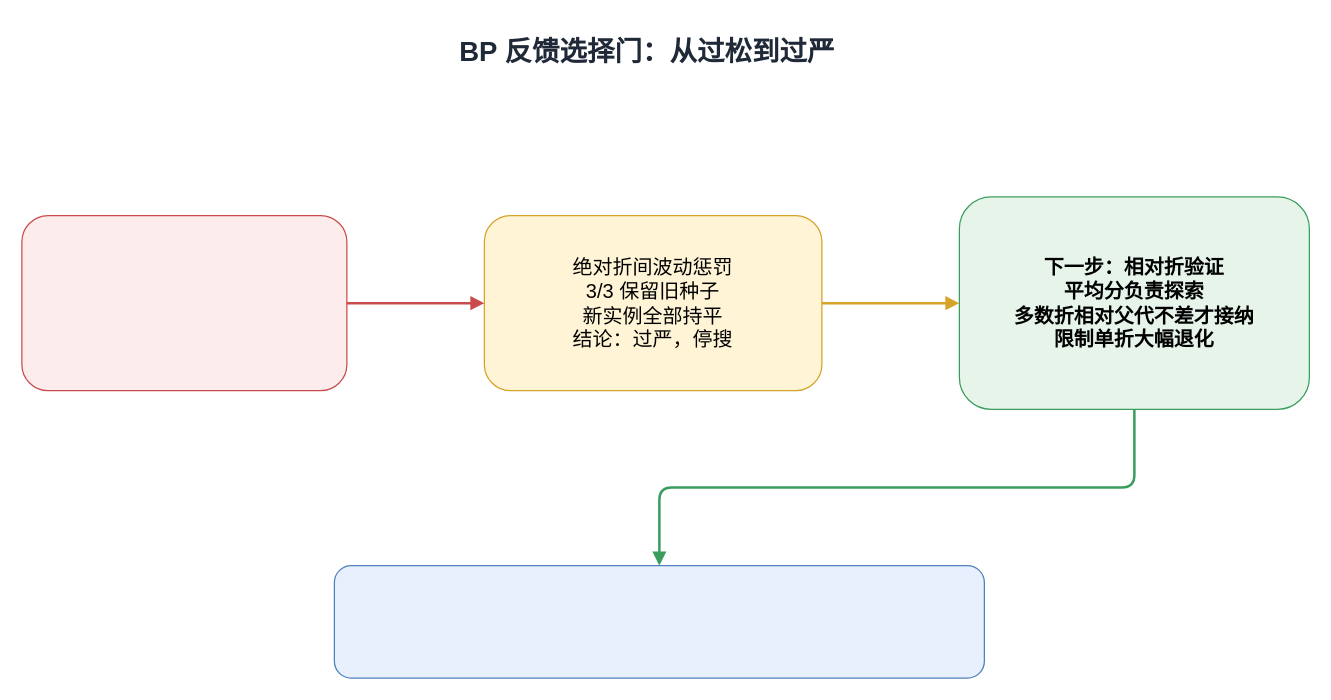
Image size: 1331x700. Some labels were removed from this diagram. Here are the shapes that lost their labels. From the top down, the centre of each, then its label:
(184,302): 只看分尺度均值 训练 3/3 更好 新实例 0/3 更好 结论：过松，误收
(658,621): 核心变化：不再惩罚问题天然波动，只检查候选带来的变化是否跨折一致
